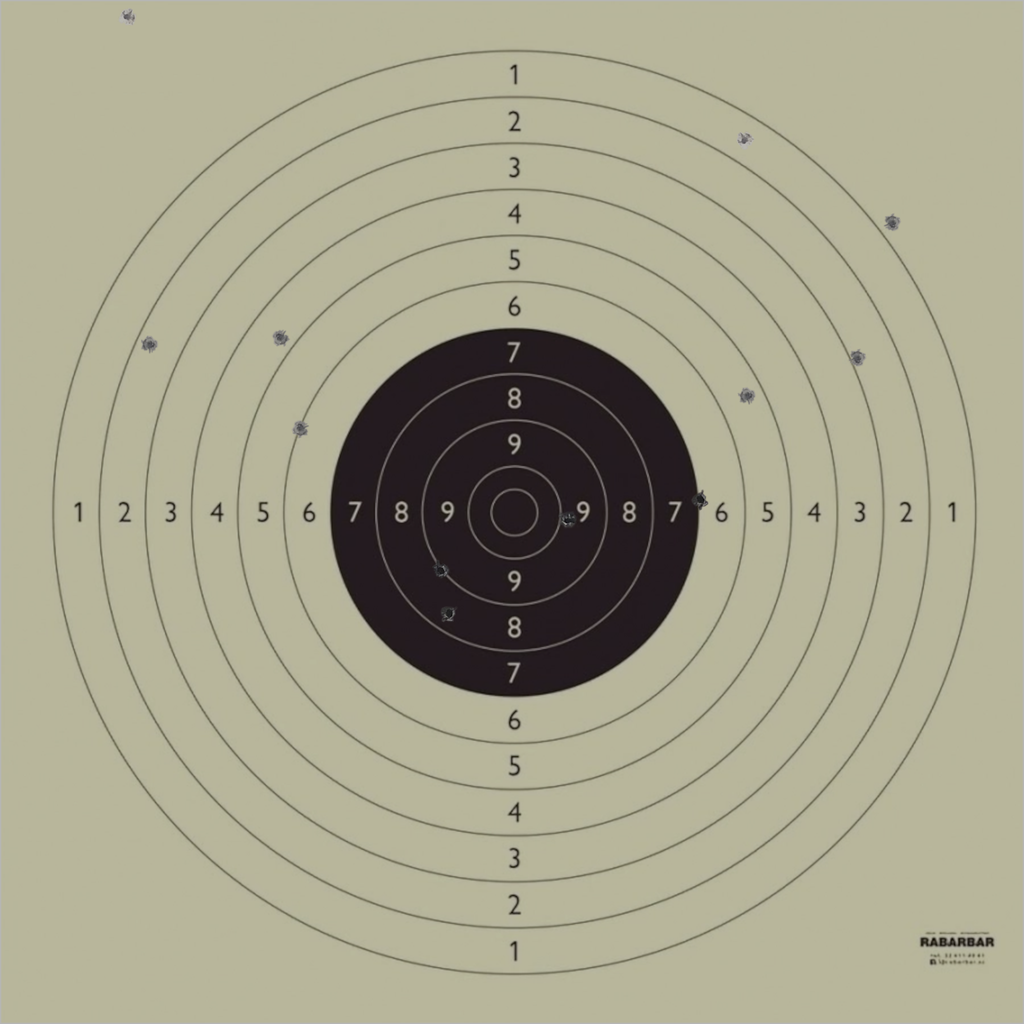0 punktow: (883, 214, 902, 233)
1 punkt: (735, 131, 754, 149)
10 punktow: (558, 511, 576, 530)
2 punkty: (141, 335, 159, 354)
3 punkty: (848, 350, 867, 368)
4 punkty: (271, 328, 289, 347)
5 punktow: (739, 387, 757, 405)
6 punktow: (291, 419, 310, 437)
7 punktow: (691, 491, 710, 509)
8 punktow: (440, 605, 458, 623)
9 punktow: (432, 561, 450, 580)
